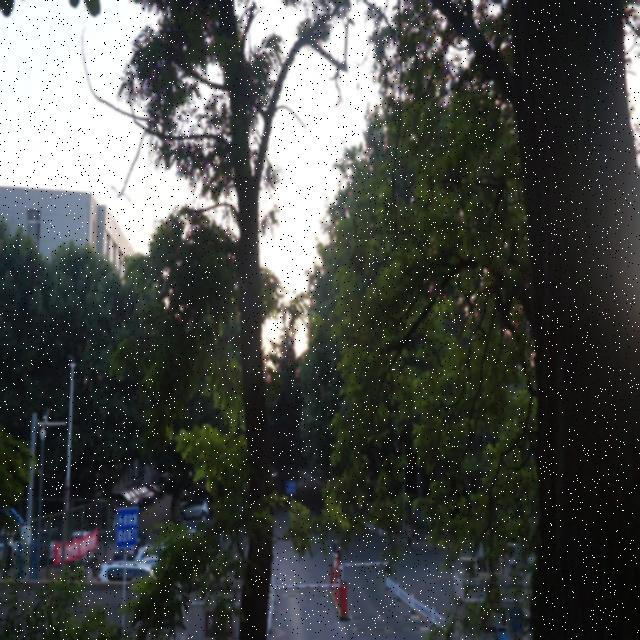UAV: (370, 125, 384, 142)
